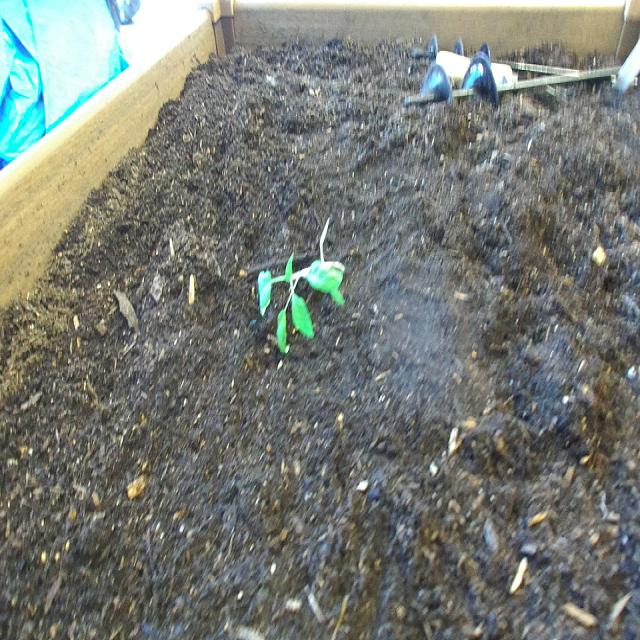Healthy: (249, 205, 360, 373)
